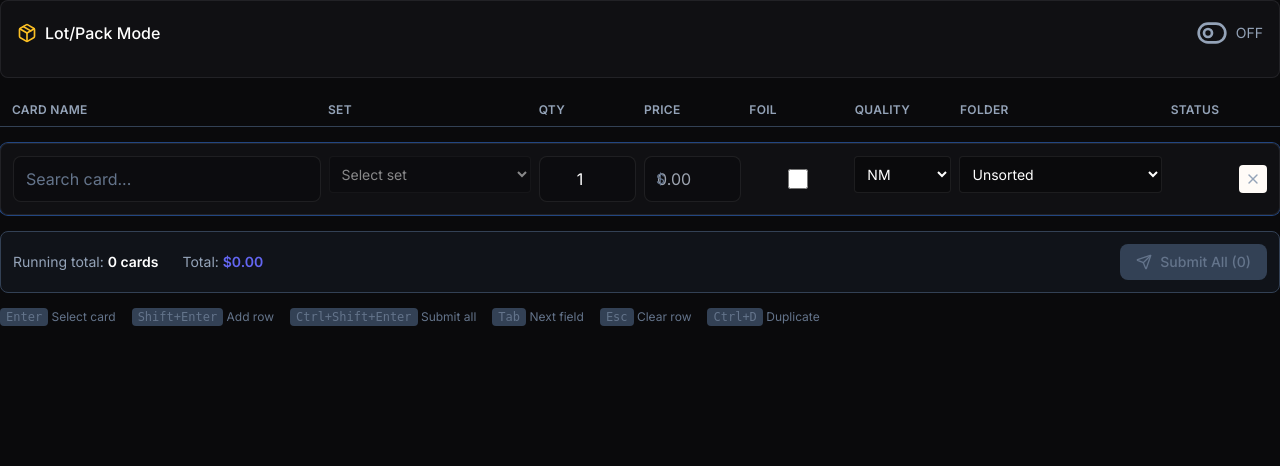
Test: RapidEntryTable Component › Lot Mode › toggles lot mode on and off
The width and height of the screenshot is (1280, 466).
Check: the text "OFF" is shown, box [1236,23,1263,43]
// Click toggle
Click the button "OFF".
click(1229, 33)  # box [1196,17,1263,49]
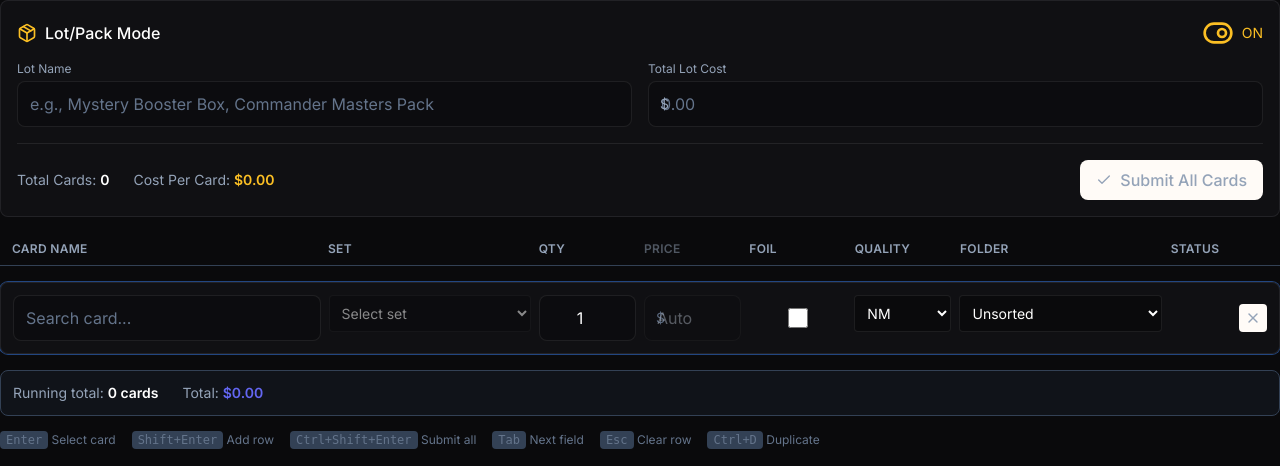
Check: the text "ON" is shown, box [1242,23,1263,43]
// Click again to turn off
Click the button "OFF".
click(1232, 33)  # box [1202,17,1263,49]
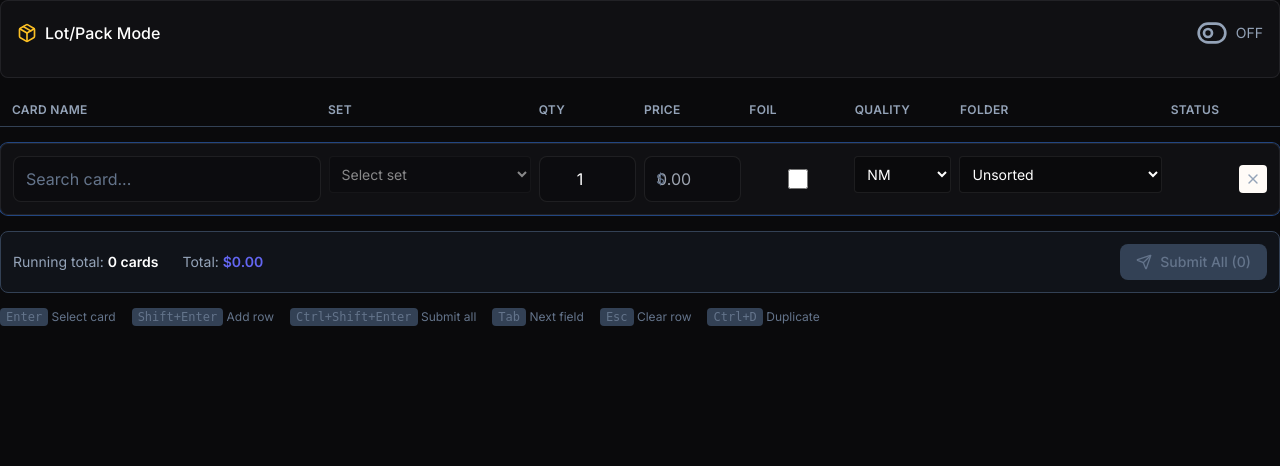
Check: the text "OFF" is shown, box [1236,23,1263,43]
